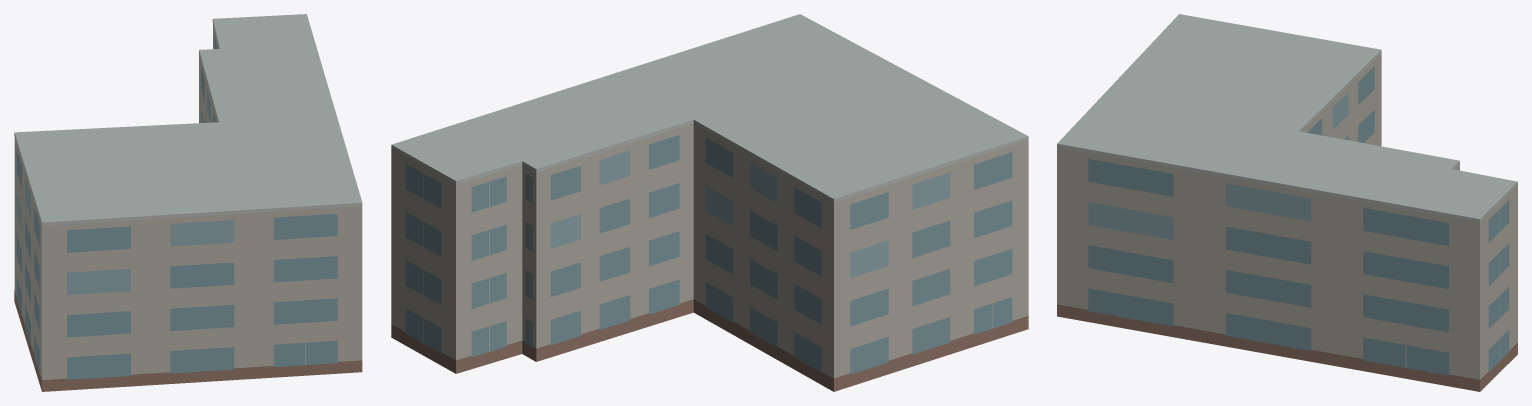
File: survey-upis-32677422.glb
3 renders of one model, left to right at view 1: azimuth 30°, elevation 25°; view 2: azimuth 150°, elevation 25°; view 3: azimuth 270°, elevation 25°, orthographic. The views are drawn at different scales.
Parts seen in each view (by area): view 1: survey-upis-32677422.tmp; view 2: survey-upis-32677422.tmp; view 3: survey-upis-32677422.tmp.
Part boxes in pixels (x1=…): survey-upis-32677422.tmp: x1=14, y1=14, x2=362, y2=391; survey-upis-32677422.tmp: x1=391, y1=14, x2=1028, y2=391; survey-upis-32677422.tmp: x1=1057, y1=14, x2=1517, y2=391.
Bounding box in the file's own units: 31.59 × 12.4 × 29.98.
